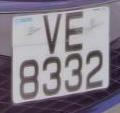2: (84, 46, 106, 93)
3: (41, 54, 65, 100), (63, 51, 85, 97)
8: (17, 53, 43, 104)
E: (62, 8, 86, 56)
V: (41, 10, 64, 60)
